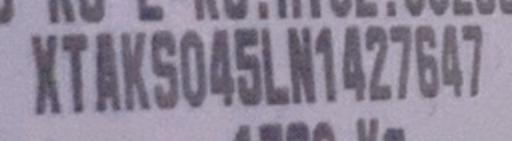letter: (146, 27, 182, 112), (230, 23, 264, 108), (90, 30, 124, 113), (28, 33, 62, 116), (362, 22, 396, 103), (59, 30, 91, 115), (258, 25, 290, 108), (177, 27, 209, 110), (285, 24, 317, 105), (120, 30, 152, 111), (338, 20, 368, 103), (207, 27, 237, 108), (412, 22, 442, 101), (386, 20, 414, 101), (311, 24, 339, 105), (438, 22, 466, 99), (458, 22, 486, 99)
